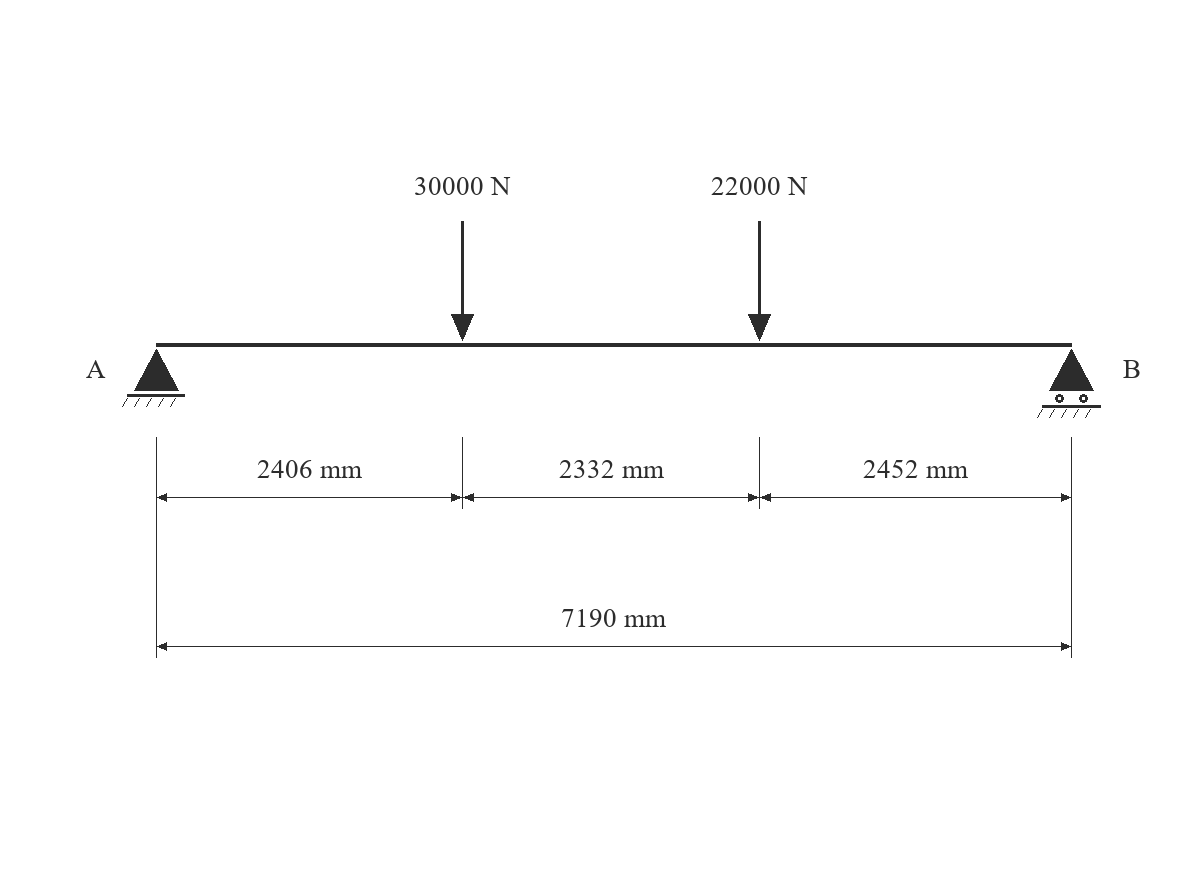pin_support: (122, 349, 185, 407)
point_load: (451, 221, 474, 341), (748, 221, 771, 341)
roller_support: (1037, 349, 1101, 418)
